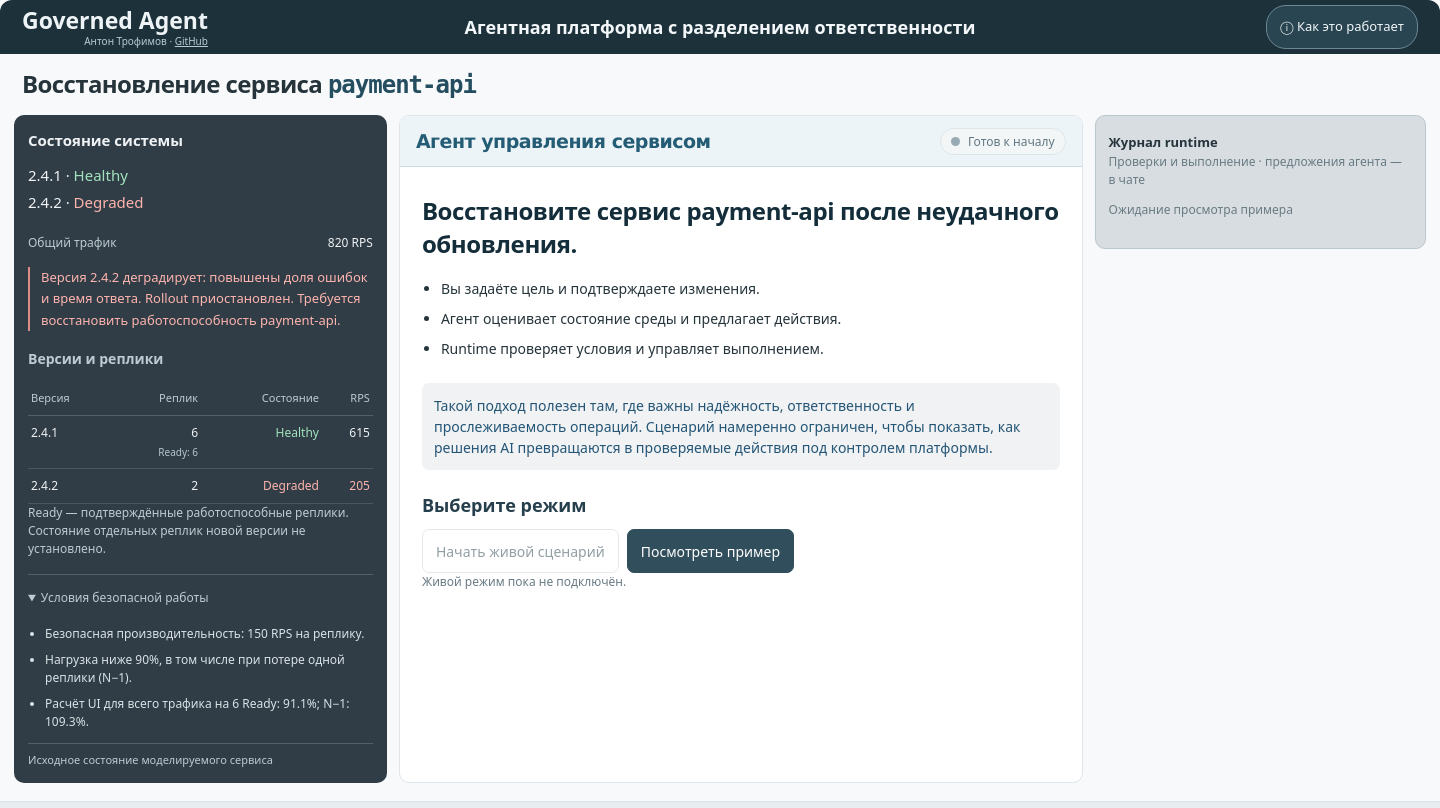
Test case: gates mode controls and keeps versions always visible
Expected: the field labelled "Демонстрационный пример" is not shown
Expected: the button "Начать живой сценарий" is disabled, [422,529,619,573]
Click the button "Посмотреть пример". click: (710, 551)
box: [627,529,794,573]
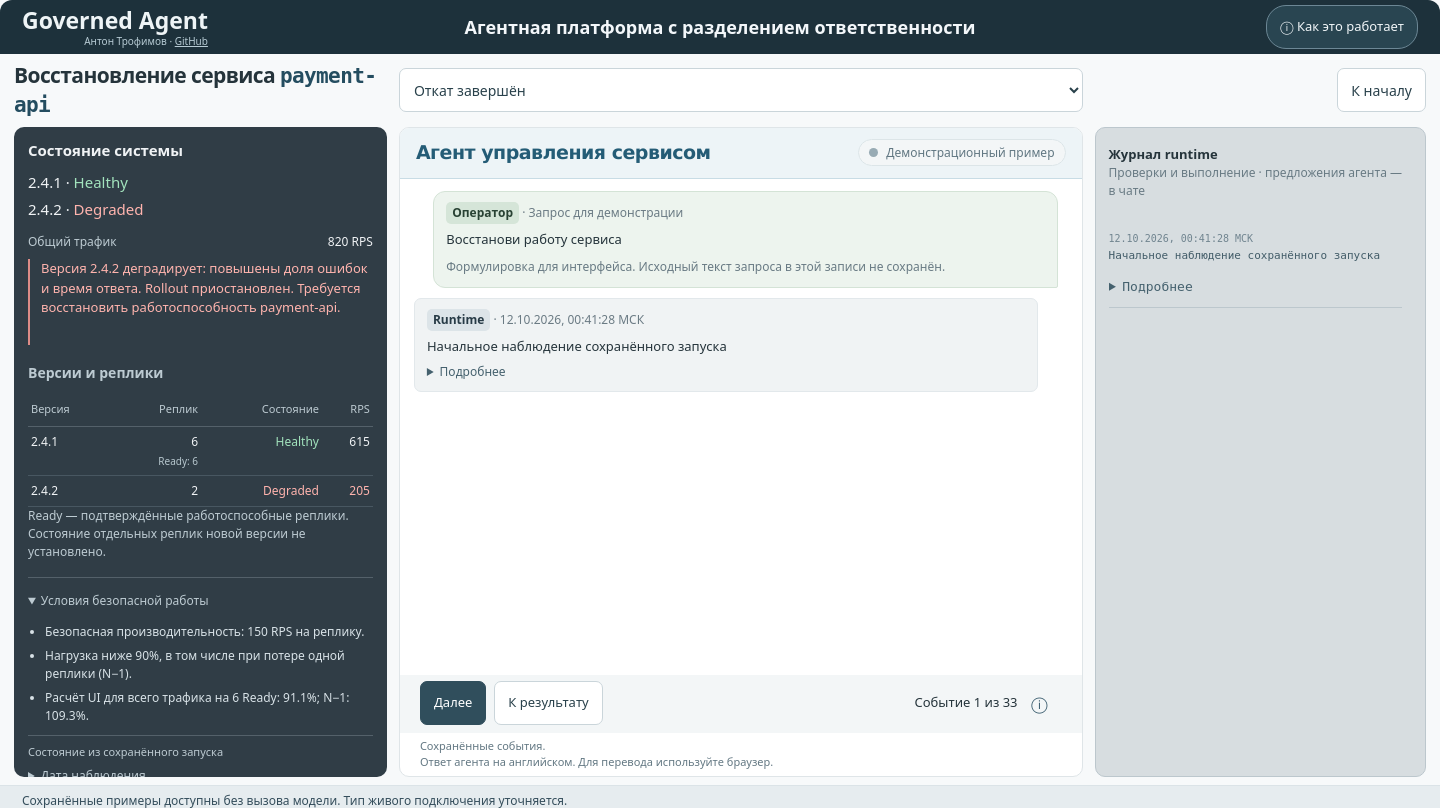
Expected: the dropdown named "Демонстрационный пример" is shown, [399,68,1082,112]
Click the button "К результату". click: (549, 703)
box: [494,681,603,725]
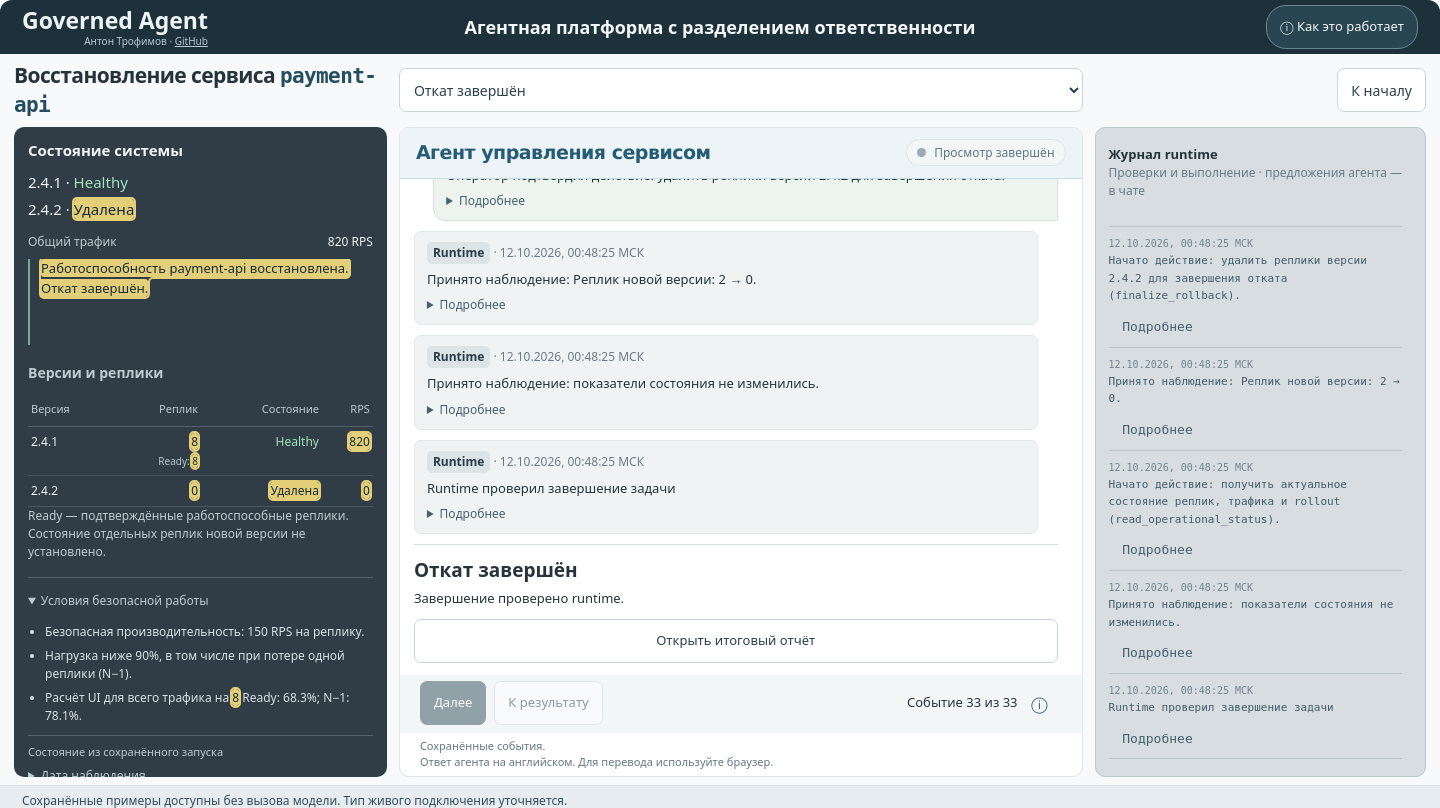
Click the button "Открыть итоговый отчёт". click: (736, 641)
box: [414,619,1058,663]
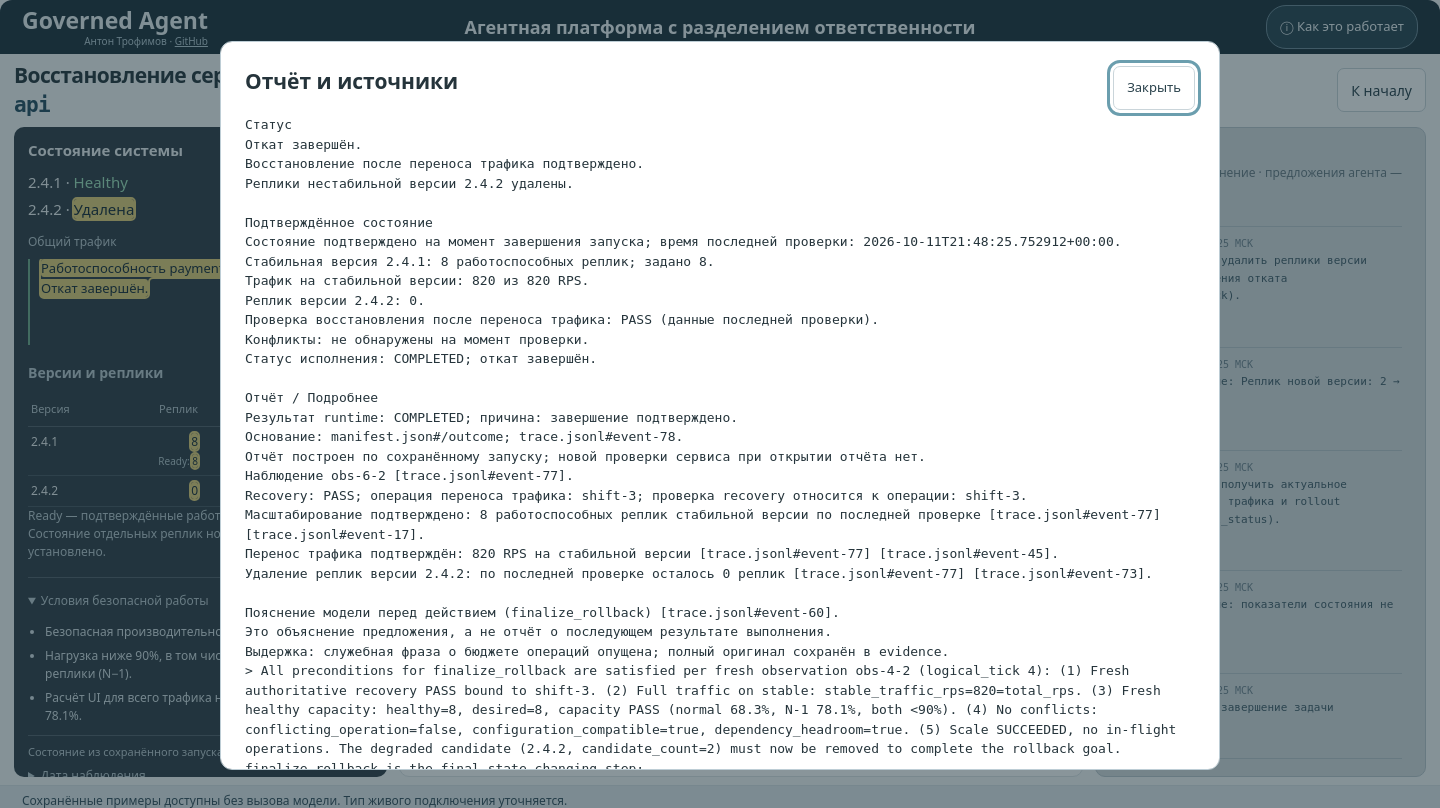
Expected: the dialog named "Итоговый отчёт" is shown
